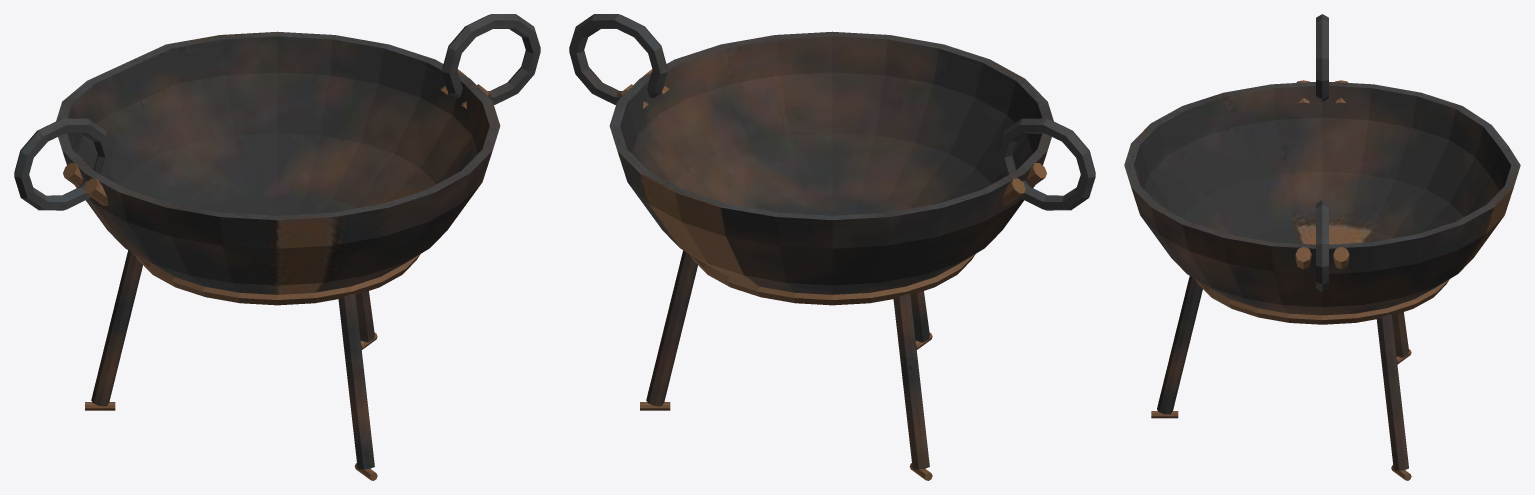
File: K06_kadhai_wok.glb
The picture shows the model from 3 angles, left to right: view 1: azimuth 30°, elevation 25°; view 2: azimuth 150°, elevation 25°; view 3: azimuth 270°, elevation 25°; orthographic projection. The views are drawn at different scales.
Visible parts, largest first — view 1: Worn iron kadhai; view 2: Worn iron kadhai; view 3: Worn iron kadhai.
Part boxes in pixels (x1,y1,x2,y2): Worn iron kadhai: (14,14,540,480); Worn iron kadhai: (569,14,1095,480); Worn iron kadhai: (1124,14,1520,480).
Size of the model in its own units: 0.4 by 0.2499 by 0.2933.
3 materials, 3 textured.
